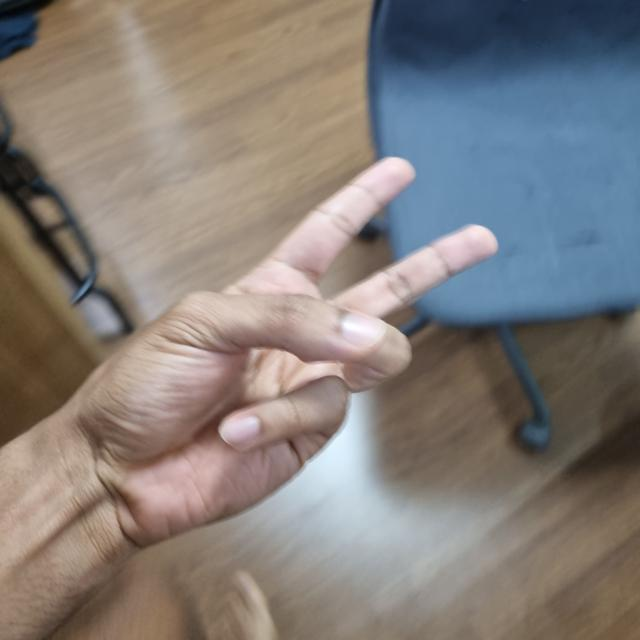Scissors: (111, 159, 491, 533)
